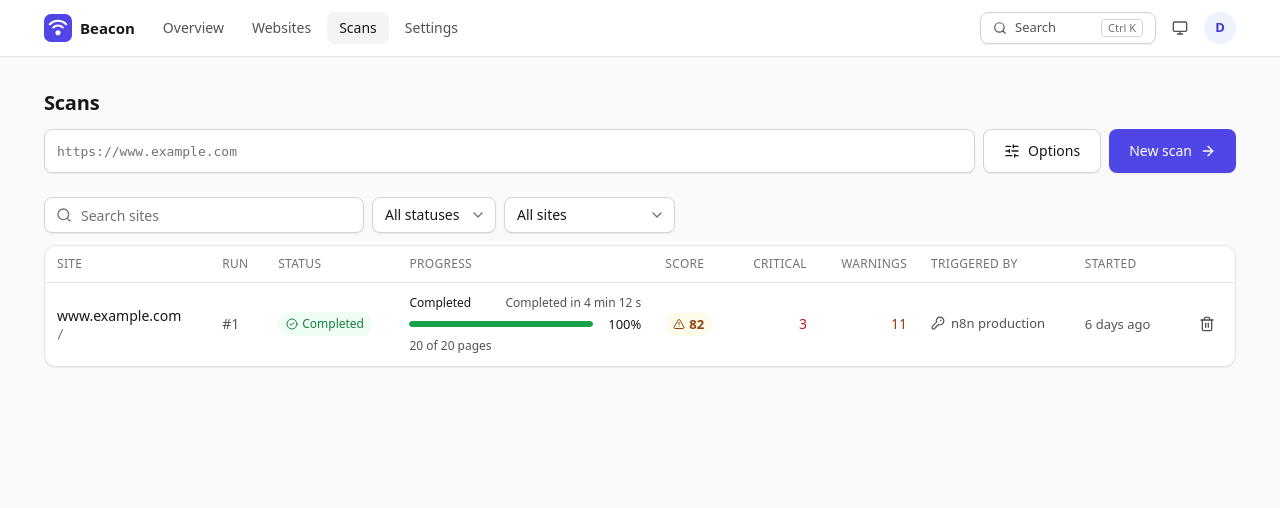
Test: dashboard scan list › says so when filters match nothing
Expected: the link "www.example.com" is shown, x1=57 y1=306 x2=198 y2=326
Select "Failed" in the dropdown named "Filter by status". click: (434, 215)
box: x1=372 y1=197 x2=496 y2=233
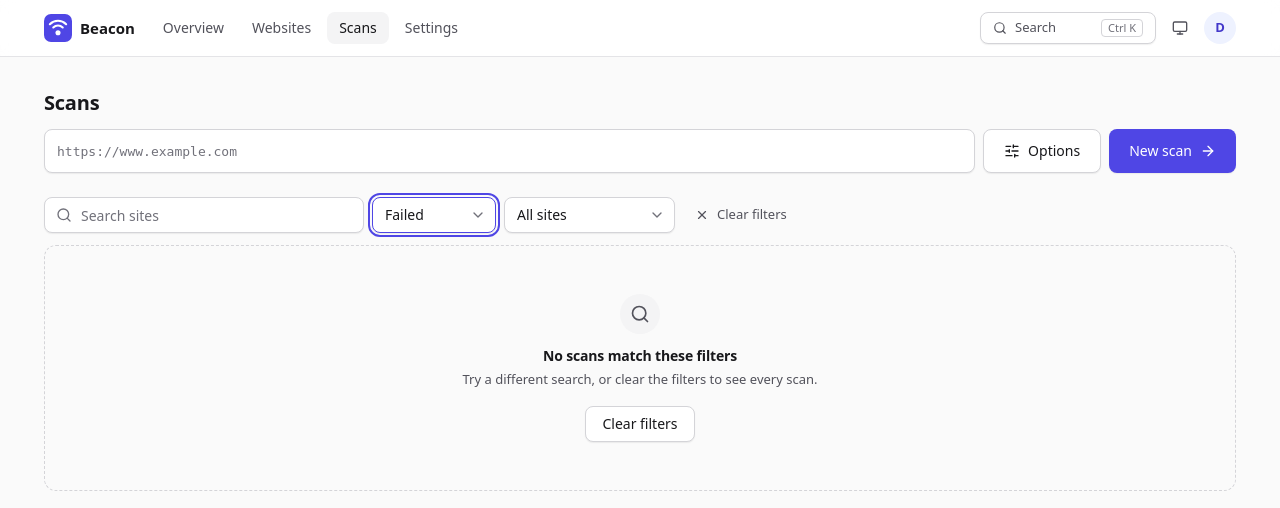
Expected: the heading "No scans match these filters" is shown, x1=543 y1=346 x2=737 y2=366
